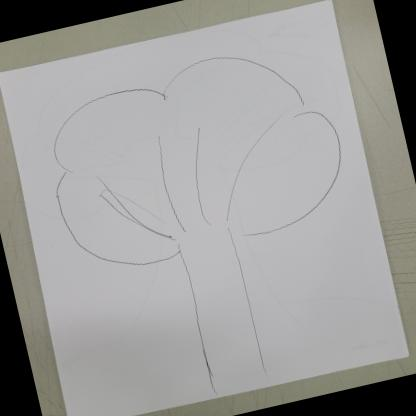branch_line: (82, 98, 312, 254)
crown_cloud: (35, 33, 365, 283)
trunk_straight: (164, 240, 281, 373)
